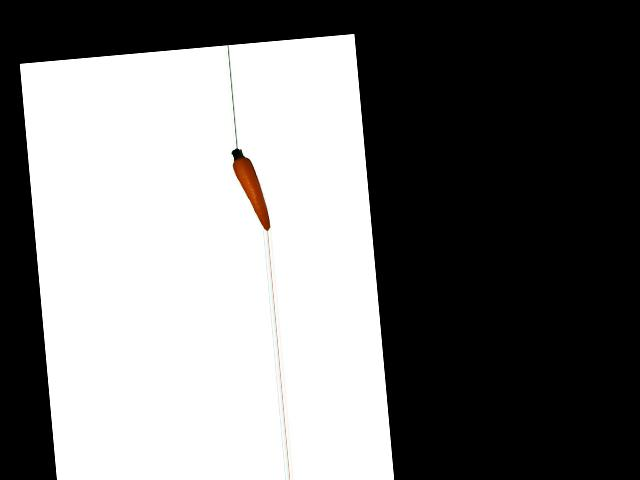carrot: (230, 145, 270, 232)
